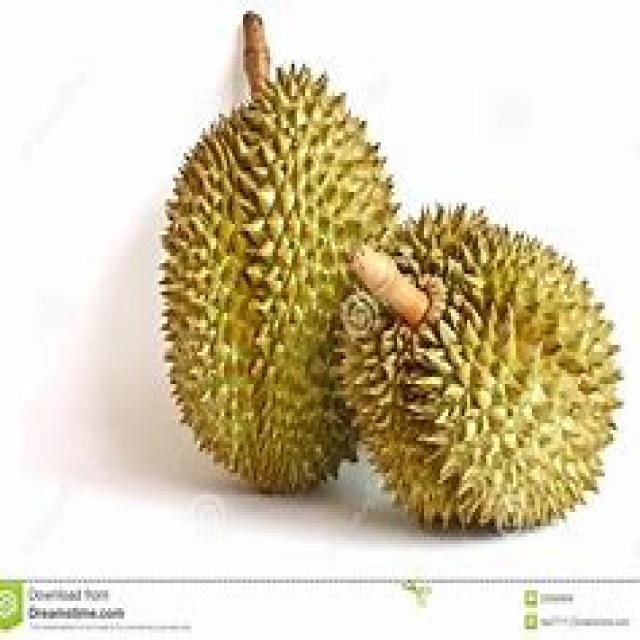mature: (161, 67, 396, 492), (340, 206, 620, 529)
